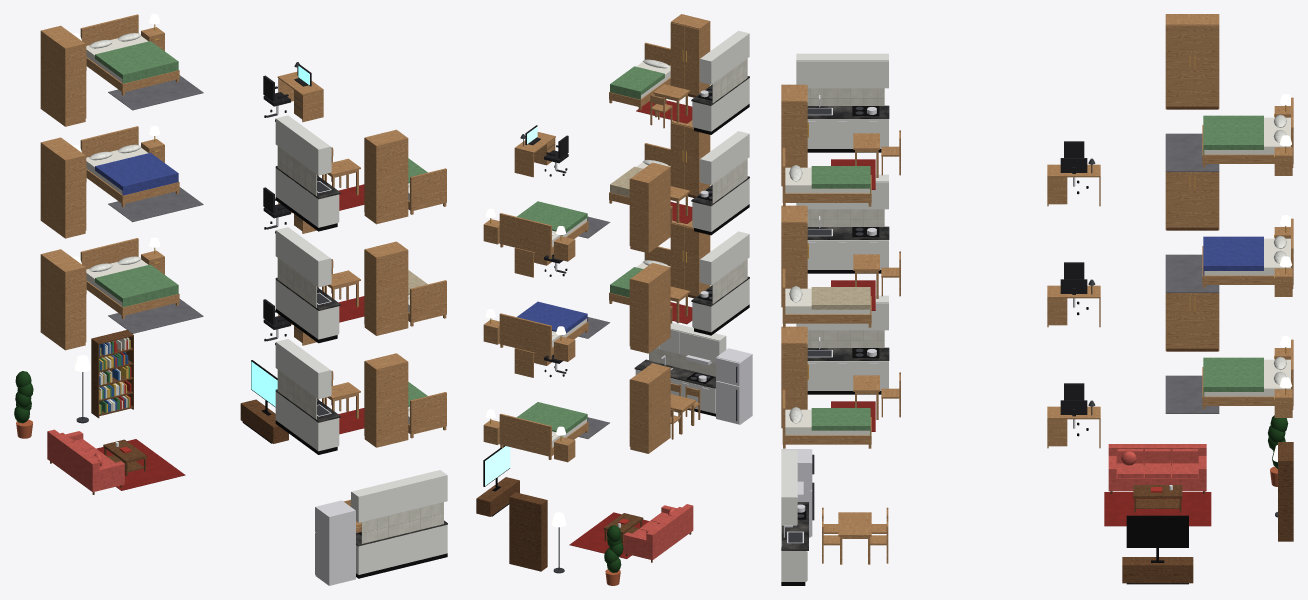
File: i_dutch_canal_house.gltf
3 views of the same model, side by side, from view 1: azimuth 30°, elevation 25°; view 2: azimuth 150°, elevation 25°; view 3: azimuth 270°, elevation 25° (orthographic). The views are drawn at different scales.
Visible parts, largest first — view 1: I_dutch_canal_house; view 2: I_dutch_canal_house; view 3: I_dutch_canal_house.
Part boxes in pixels (x1,y1,x2,y2): I_dutch_canal_house: (14,14,447,585); I_dutch_canal_house: (476,14,752,585); I_dutch_canal_house: (781,14,1293,585).
Bounding box in the file's own units: 5.76 × 11.6 × 11.52.
30 materials, 12 textured.
